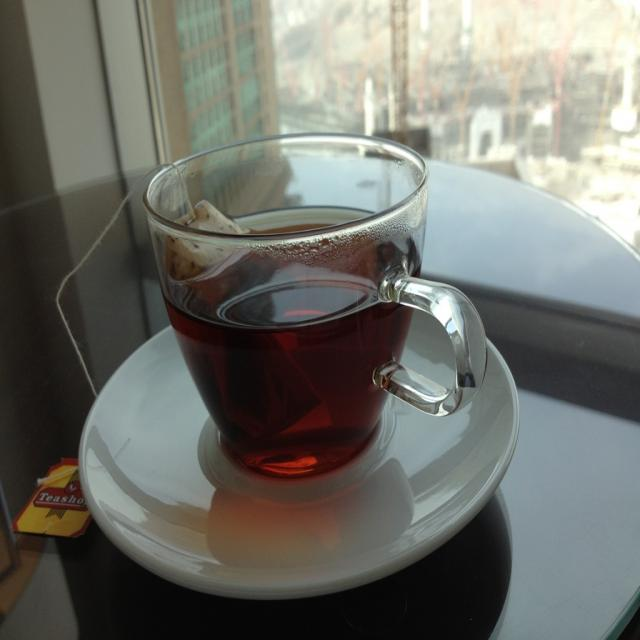Tea: (160, 210, 421, 478)
